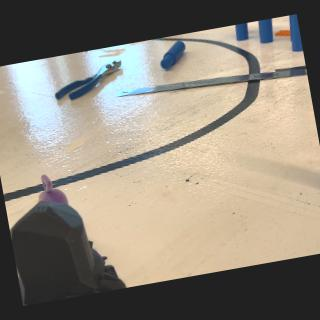teletubby: (38, 174, 68, 204)
